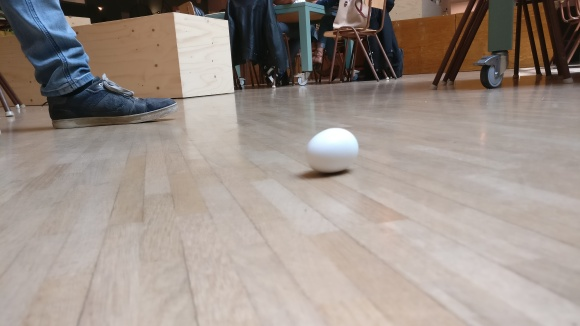egg: (302, 126, 360, 174)
